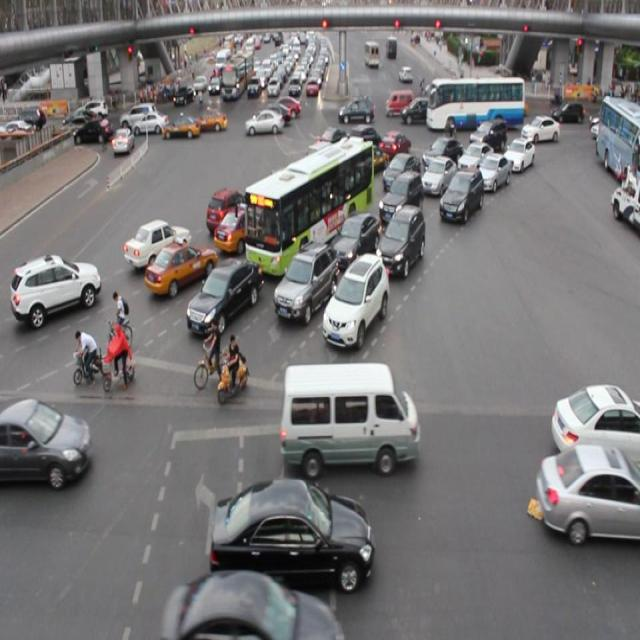car: (211, 474, 372, 593), (162, 569, 342, 640), (534, 444, 640, 541), (1, 396, 92, 486), (550, 384, 640, 465), (321, 253, 388, 346), (12, 253, 100, 323), (187, 255, 262, 332), (274, 241, 336, 321), (145, 238, 216, 297), (376, 204, 425, 275), (124, 220, 191, 269), (329, 211, 382, 271), (214, 204, 275, 250), (438, 168, 482, 222), (378, 172, 422, 224), (274, 183, 326, 225), (205, 187, 253, 231), (258, 167, 304, 208), (382, 151, 420, 195), (322, 158, 366, 196), (421, 137, 462, 175), (469, 120, 507, 158), (421, 156, 456, 197), (474, 153, 509, 193), (457, 141, 492, 181), (346, 125, 381, 161), (503, 138, 534, 174), (353, 142, 387, 174), (378, 129, 410, 161), (315, 128, 346, 159)
truck: (280, 361, 419, 466), (296, 142, 343, 180)
van: (245, 139, 377, 275)
